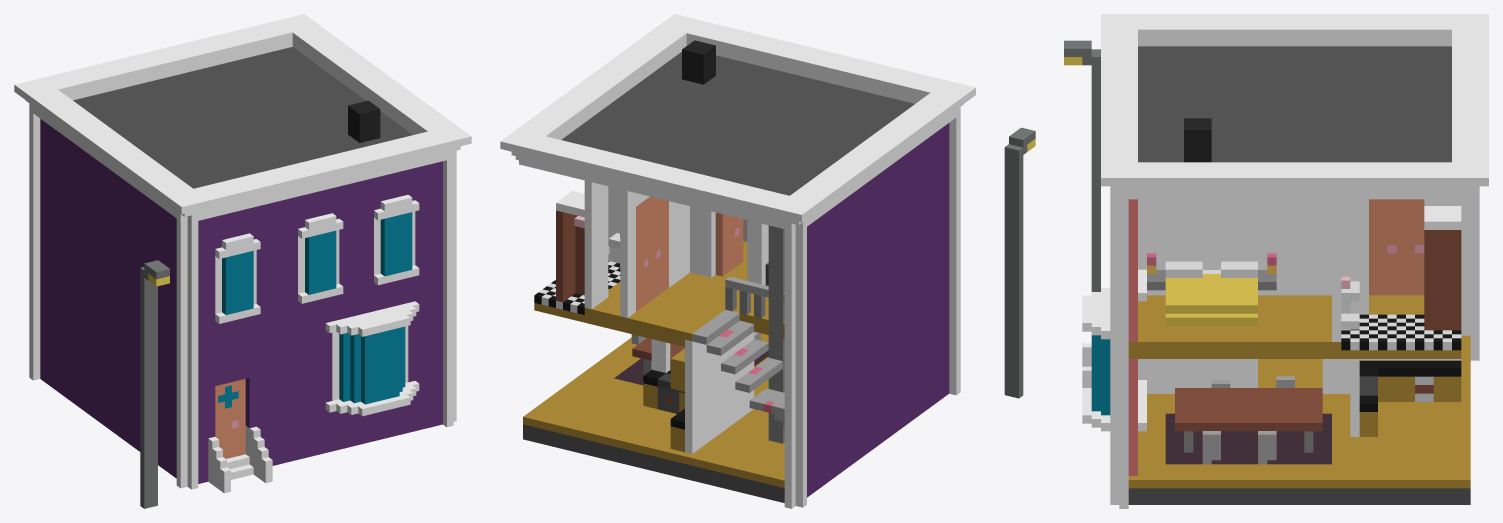
Rendered from house.glb.
3 renders of one model, left to right at view 1: azimuth 30°, elevation 25°; view 2: azimuth 150°, elevation 25°; view 3: azimuth 270°, elevation 25°, orthographic. The views are drawn at different scales.
Parts seen in each view (by area): view 1: Untitled; view 2: Untitled; view 3: Untitled.
Part boxes in pixels (box(x1,y1,x2,y2)): Untitled: box(14, 14, 471, 508); Untitled: box(500, 14, 1035, 508); Untitled: box(1064, 14, 1488, 508).
Bounding box in the file's own units: 4.8 × 4.2 × 4.6.
Materials: 1 (1 with a texture image).
